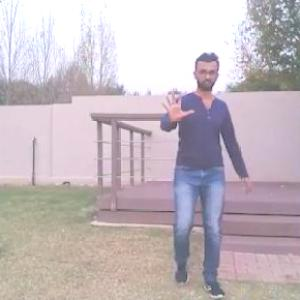follow_hand: (157, 86, 196, 124)
